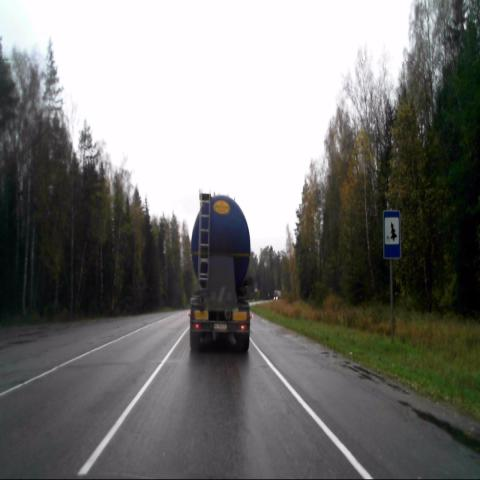7_11: (382, 209, 402, 260)
